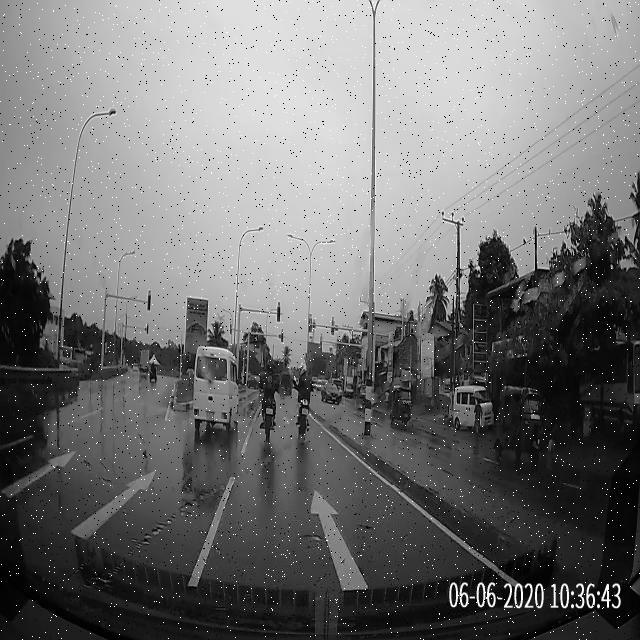forward: (180, 486, 498, 614)
